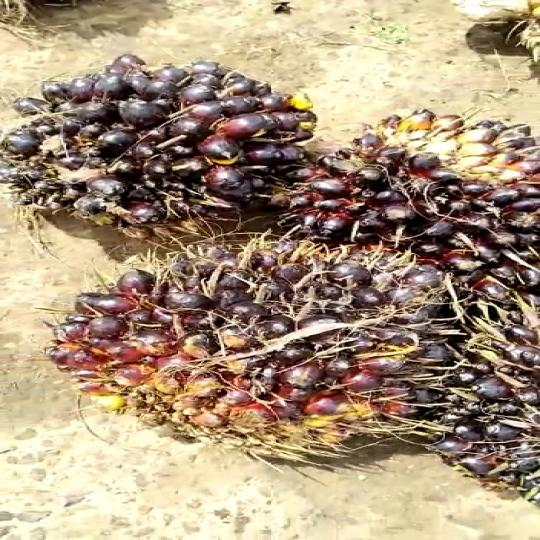mentah: (52, 228, 455, 472), (2, 56, 318, 250), (314, 90, 540, 289)
